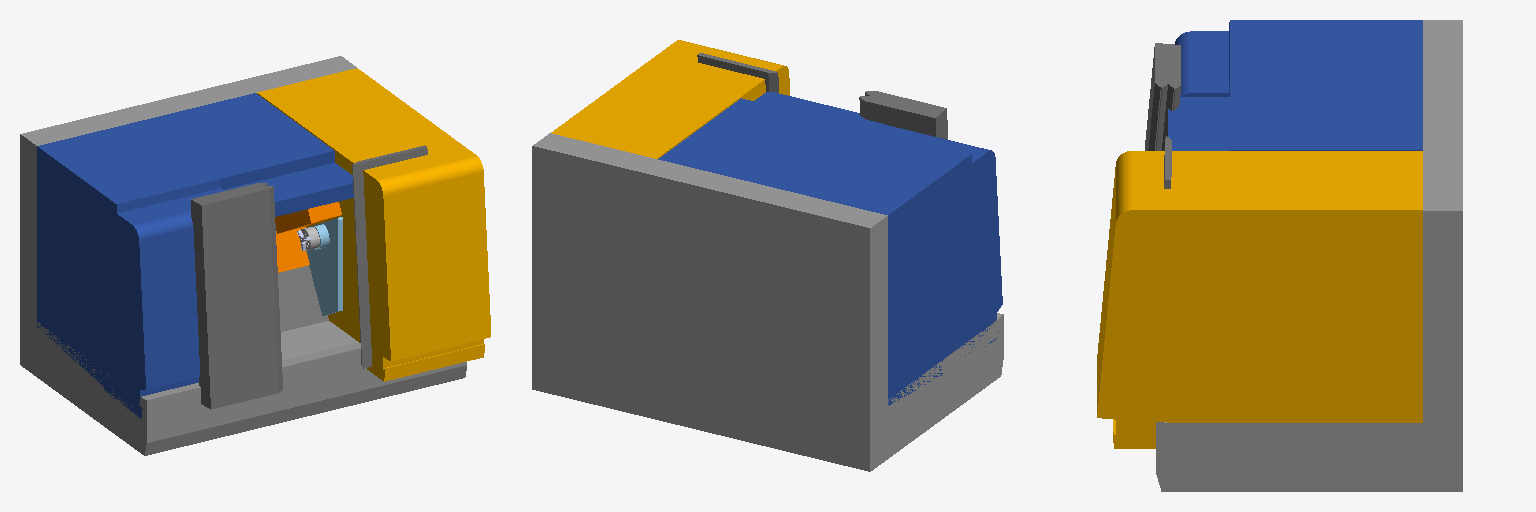
--- Render facts (derived) ---
The picture shows the robot from 3 angles, left to right: view 1: azimuth 30°, elevation 25°; view 2: azimuth 150°, elevation 25°; view 3: azimuth 270°, elevation 25°; orthographic projection.
Model cnc with 4 links and 3 joints (3 fixed), rooted at assembly_1, posed all joints at 0.
Visible links, largest first — view 1: assembly_1; view 2: assembly_1; view 3: assembly_1.
Boxes of the visible links, bbox=[...] form: assembly_1: bbox=[20, 56, 490, 455]; assembly_1: bbox=[532, 40, 1003, 471]; assembly_1: bbox=[1097, 20, 1462, 491].
Size in the robot's own frame: 2.79 by 2.27 by 1.99 metres.
Meshes: 20 distinct files referenced, 34 mesh visuals loaded (16 binary STL); not drawn: 4 (reference not matched to a file when rendering).

URDF robot description (cnc):
?<?xml version="1.0"?>
<robot name="cnc">
<link name="assembly_1">
<visual>
<origin xyz="-0.48300000000000470335 0.54284609690826468587 1.1800000000000010481" rpy="-1.570796326794896558 -9.4368957093138207328e-16 1.5707963267948974462" />
<geometry>
<mesh filename="package://cnc_machine_gazebo/models/cnc2/part_4.stl"/>
</geometry>
<material name="part_4_material">
<color rgba="0.91764705882352937127 0.91764705882352937127 0.91764705882352937127 1.0"/>
</material>
</visual>
<collision>
<origin xyz="-0.48300000000000470335 0.54284609690826468587 1.1800000000000010481" rpy="-1.570796326794896558 -9.4368957093138207328e-16 1.5707963267948974462" />
<geometry>
<mesh filename="package://cnc_machine_gazebo/models/cnc2/part_4.stl"/>
</geometry>
</collision>
<visual>
<origin xyz="-1.0953944778809043825 0.38711564060248027097 1.868881059226524588" rpy="-2.6111752560385688149 1.4835298641951810694 -1.5707963267948958919" />
<geometry>
<mesh filename="package://cnc_machine_gazebo/models/cnc2/i1127a000001_02_02_simu.stl"/>
</geometry>
<material name="i1127a000001_02_02_simu_material">
<color rgba="0.49803921568627451677 0.49803921568627451677 0.49803921568627451677 1.0"/>
</material>
</visual>
<collision>
<origin xyz="-1.0953944778809043825 0.38711564060248027097 1.868881059226524588" rpy="-2.6111752560385688149 1.4835298641951810694 -1.5707963267948958919" />
<geometry>
<mesh filename="package://cnc_machine_gazebo/models/cnc2/i1127a000001_02_02_simu.stl"/>
</geometry>
</collision>
<visual>
<origin xyz="-0.31830000000000130411 0.58441531628992116065 1.1560000000000016929" rpy="-2.4822085130842591103e-16 -0.52359877559829848259 -1.57079632679489678" />
<geometry>
<mesh filename="package://cnc_machine_gazebo/models/cnc2/p44.stl"/>
</geometry>
<material name="p44_material">
<color rgba="0.79215686274509800047 0.81960784313725487671 0.93333333333333334814 1.0"/>
</material>
</visual>
<collision>
<origin xyz="-0.31830000000000130411 0.58441531628992116065 1.1560000000000016929" rpy="-2.4822085130842591103e-16 -0.52359877559829848259 -1.57079632679489678" />
<geometry>
<mesh filename="package://cnc_machine_gazebo/models/cnc2/p44.stl"/>
</geometry>
</collision>
<visual>
<origin xyz="-0.48300000000000470335 0.54284609690826468587 1.1800000000000010481" rpy="-1.570796326794896558 -9.4368957093138207328e-16 1.5707963267948974462" />
<geometry>
<mesh filename="package://cnc_machine_gazebo/models/cnc2/y.stl"/>
</geometry>
<material name="y_material">
<color rgba="0.37254901960784314596 0.65490196078431373028 0.23921568627450981448 1.0"/>
</material>
</visual>
<collision>
<origin xyz="-0.48300000000000470335 0.54284609690826468587 1.1800000000000010481" rpy="-1.570796326794896558 -9.4368957093138207328e-16 1.5707963267948974462" />
<geometry>
<mesh filename="package://cnc_machine_gazebo/models/cnc2/y.stl"/>
</geometry>
</collision>
<visual>
<origin xyz="-0.31830000000000130411 0.54284609690826479689 1.2280000000000022009" rpy="1.5707963267948956698 1.5707963267948956698 0" />
<geometry>
<mesh filename="package://cnc_machine_gazebo/models/cnc2/p44.stl"/>
</geometry>
<material name="p44_material">
<color rgba="0.79215686274509800047 0.81960784313725487671 0.93333333333333334814 1.0"/>
</material>
</visual>
<collision>
<origin xyz="-0.31830000000000130411 0.54284609690826479689 1.2280000000000022009" rpy="1.5707963267948956698 1.5707963267948956698 0" />
<geometry>
<mesh filename="package://cnc_machine_gazebo/models/cnc2/p44.stl"/>
</geometry>
</collision>
<visual>
<origin xyz="-0.40499999999999941602 0.54284609690826901574 1.1800000000000012701" rpy="1.5707963267948974462 -5.870234470492286122e-31 7.5633943552588670987e-16" />
<geometry>
<mesh filename="package://cnc_machine_gazebo/models/cnc2/i1127a403012_01_simu.stl"/>
</geometry>
<material name="i1127a403012_01_simu_material">
<color rgba="0.64705882352941179736 0.64705882352941179736 0.64705882352941179736 1.0"/>
</material>
</visual>
<collision>
<origin xyz="-0.40499999999999941602 0.54284609690826901574 1.1800000000000012701" rpy="1.5707963267948974462 -5.870234470492286122e-31 7.5633943552588670987e-16" />
<geometry>
<mesh filename="package://cnc_machine_gazebo/models/cnc2/i1127a403012_01_simu.stl"/>
</geometry>
</collision>
<visual>
<origin xyz="-0.42311979967677981751 0.15629034788732315553 1.0854199928411174536" rpy="1.5707963267948974462 -5.7893454128280265952e-31 7.9797279894933017875e-16" />
<geometry>
<mesh filename="package://cnc_machine_gazebo/models/cnc2/i1127a000001_10_04_simu.stl"/>
</geometry>
<material name="i1127a000001_10_04_simu_material">
<color rgba="0.2313725490196078538 0.38039215686274507888 0.7058823529411765163 1.0"/>
</material>
</visual>
<collision>
<origin xyz="-0.42311979967677981751 0.15629034788732315553 1.0854199928411174536" rpy="1.5707963267948974462 -5.7893454128280265952e-31 7.9797279894933017875e-16" />
<geometry>
<mesh filename="package://cnc_machine_gazebo/models/cnc2/i1127a000001_10_04_simu.stl"/>
</geometry>
</collision>
<visual>
<origin xyz="0.3150999999999999357 0.55886756687827754408 1.1892500000000005844" rpy="-3.1415926535897900074 0.52359877559829259841 -1.570796326794896336" />
<geometry>
<mesh filename="package://cnc_machine_gazebo/models/cnc2/p31.stl"/>
</geometry>
<material name="p31_material">
<color rgba="0.79215686274509800047 0.81960784313725487671 0.93333333333333334814 1.0"/>
</material>
</visual>
<collision>
<origin xyz="0.3150999999999999357 0.55886756687827754408 1.1892500000000005844" rpy="-3.1415926535897900074 0.52359877559829259841 -1.570796326794896336" />
<geometry>
<mesh filename="package://cnc_machine_gazebo/models/cnc2/p31.stl"/>
</geometry>
</collision>
<visual>
<origin xyz="-0.40500000000000074829 0.54284609690826490791 1.1800000000000010481" rpy="1.5707963267948974462 -5.870234470492286122e-31 7.5633943552588670987e-16" />
<geometry>
<mesh filename="package://cnc_machine_gazebo/models/cnc2/i1127a000001_10_01_simu.stl"/>
</geometry>
<material name="i1127a000001_10_01_simu_material">
<color rgba="0.98039215686274505668 0.71372549019607844922 0.0039215686274509803377 1.0"/>
</material>
</visual>
<collision>
<origin xyz="-0.40500000000000074829 0.54284609690826490791 1.1800000000000010481" rpy="1.5707963267948974462 -5.870234470492286122e-31 7.5633943552588670987e-16" />
<geometry>
<mesh filename="package://cnc_machine_gazebo/models/cnc2/i1127a000001_10_01_simu.stl"/>
</geometry>
</collision>
<visual>
<origin xyz="-1.0953944778809032723 -0.44680211784210605019 0.45347573627780990435" rpy="0.53041739755122307987 -1.4835298641951810694 1.5707963267948972241" />
<geometry>
<mesh filename="package://cnc_machine_gazebo/models/cnc2/i1127a000001_02_02_simu.stl"/>
</geometry>
<material name="i1127a000001_02_02_simu_material">
<color rgba="0.49803921568627451677 0.49803921568627451677 0.49803921568627451677 1.0"/>
</material>
</visual>
<collision>
<origin xyz="-1.0953944778809032723 -0.44680211784210605019 0.45347573627780990435" rpy="0.53041739755122307987 -1.4835298641951810694 1.5707963267948972241" />
<geometry>
<mesh filename="package://cnc_machine_gazebo/models/cnc2/i1127a000001_02_02_simu.stl"/>
</geometry>
</collision>
<visual>
<origin xyz="-0.39300000000000084865 0.54284609690826490791 1.180000000000000826" rpy="1.5707963267948974462 -5.870234470492286122e-31 7.5633943552588670987e-16" />
<geometry>
<mesh filename="package://cnc_machine_gazebo/models/cnc2/130_z1_cover.stl"/>
</geometry>
<material name="130_z1_cover_material">
<color rgba="0.98039215686274505668 0.71372549019607844922 0.0039215686274509803377 1.0"/>
</material>
</visual>
<collision>
<origin xyz="-0.39300000000000084865 0.54284609690826490791 1.180000000000000826" rpy="1.5707963267948974462 -5.870234470492286122e-31 7.5633943552588670987e-16" />
<geometry>
<mesh filename="package://cnc_machine_gazebo/models/cnc2/130_z1_cover.stl"/>
</geometry>
</collision>
<visual>
<origin xyz="0.31449999999999994627 0.54284609690826557404 1.1609000000000009312" rpy="1.5707963267948970021 -1.5707963267948958919 0" />
<geometry>
<mesh filename="package://cnc_machine_gazebo/models/cnc2/p31.stl"/>
</geometry>
<material name="p31_material">
<color rgba="0.79215686274509800047 0.81960784313725487671 0.93333333333333334814 1.0"/>
</material>
</visual>
<collision>
<origin xyz="0.31449999999999994627 0.54284609690826557404 1.1609000000000009312" rpy="1.5707963267948970021 -1.5707963267948958919 0" />
<geometry>
<mesh filename="package://cnc_machine_gazebo/models/cnc2/p31.stl"/>
</geometry>
</collision>
<visual>
<origin xyz="-0.40500000000000047073 0.24284609690826441941 1.1800000000000010481" rpy="1.5707963267948974462 -4.9303806576313159015e-31 7.563394355258870057e-16" />
<geometry>
<mesh filename="package://cnc_machine_gazebo/models/cnc2/i1127a000001_10_01_simu.stl"/>
</geometry>
<material name="i1127a000001_10_01_simu_material">
<color rgba="0.98039215686274505668 0.71372549019607844922 0.0039215686274509803377 1.0"/>
</material>
</visual>
<collision>
<origin xyz="-0.40500000000000047073 0.24284609690826441941 1.1800000000000010481" rpy="1.5707963267948974462 -4.9303806576313159015e-31 7.563394355258870057e-16" />
<geometry>
<mesh filename="package://cnc_machine_gazebo/models/cnc2/i1127a000001_10_01_simu.stl"/>
</geometry>
</collision>
<visual>
<origin xyz="-0.38530000000000286242 0.54284609690826524098 1.180000000000000826" rpy="1.5707963267948972241 -6.2881612684244073865e-31 1.4502288259166164502e-15" />
<geometry>
<mesh filename="package://cnc_machine_gazebo/models/cnc2/202_left_cover.stl"/>
</geometry>
<material name="202_left_cover_material">
<color rgba="0.64705882352941179736 0.64705882352941179736 0.64705882352941179736 1.0"/>
</material>
</visual>
<collision>
<origin xyz="-0.38530000000000286242 0.54284609690826524098 1.180000000000000826" rpy="1.5707963267948972241 -6.2881612684244073865e-31 1.4502288259166164502e-15" />
<geometry>
<mesh filename="package://cnc_machine_gazebo/models/cnc2/202_left_cover.stl"/>
</geometry>
</collision>
<visual>
<origin xyz="-0.48300000000000470335 0.54284609690826468587 1.1800000000000010481" rpy="-1.570796326794896558 -9.4368957093138207328e-16 1.5707963267948974462" />
<geometry>
<mesh filename="package://cnc_machine_gazebo/models/cnc2/x.stl"/>
</geometry>
<material name="x_material">
<color rgba="1 0 0 1.0"/>
</material>
</visual>
<collision>
<origin xyz="-0.48300000000000470335 0.54284609690826468587 1.1800000000000010481" rpy="-1.570796326794896558 -9.4368957093138207328e-16 1.5707963267948974462" />
<geometry>
<mesh filename="package://cnc_machine_gazebo/models/cnc2/x.stl"/>
</geometry>
</collision>
<visual>
<origin xyz="-0.40500000000000074829 0.54284609690826490791 1.1800000000000010481" rpy="1.5707963267948974462 -5.870234470492286122e-31 7.5633943552588670987e-16" />
<geometry>
<mesh filename="package://cnc_machine_gazebo/models/cnc2/i1127a000001_02_02_simu.stl"/>
</geometry>
<material name="i1127a000001_02_02_simu_material">
<color rgba="0.49803921568627451677 0.49803921568627451677 0.49803921568627451677 1.0"/>
</material>
</visual>
<collision>
<origin xyz="-0.40500000000000074829 0.54284609690826490791 1.1800000000000010481" rpy="1.5707963267948974462 -5.870234470492286122e-31 7.5633943552588670987e-16" />
<geometry>
<mesh filename="package://cnc_machine_gazebo/models/cnc2/i1127a000001_02_02_simu.stl"/>
</geometry>
</collision>
<visual>
<origin xyz="0.31450000000000000178 0.52630501169598298272 1.1895500000000012175" rpy="-2.1374984985046498593e-15 0.52359877559829814953 1.5707963267948970021" />
<geometry>
<mesh filename="package://cnc_machine_gazebo/models/cnc2/p31.stl"/>
</geometry>
<material name="p31_material">
<color rgba="0.79215686274509800047 0.81960784313725487671 0.93333333333333334814 1.0"/>
</material>
</visual>
<collision>
<origin xyz="0.31450000000000000178 0.52630501169598298272 1.1895500000000012175" rpy="-2.1374984985046498593e-15 0.52359877559829814953 1.5707963267948970021" />
<geometry>
<mesh filename="package://cnc_machine_gazebo/models/cnc2/p31.stl"/>
</geometry>
</collision>
<visual>
<origin xyz="-0.40500000000000074829 0.54284609690826490791 1.1800000000000010481" rpy="1.5707963267948974462 -5.870234470492286122e-31 7.5633943552588670987e-16" />
<geometry>
<mesh filename="package://cnc_machine_gazebo/models/cnc2/i1127a000001_33_04_simu.stl"/>
</geometry>
<material name="i1127a000001_33_04_simu_material">
<color rgba="0.76862745098039220171 0.88627450980392152857 0.95294117647058818044 1.0"/>
</material>
</visual>
<collision>
<origin xyz="-0.40500000000000074829 0.54284609690826490791 1.1800000000000010481" rpy="1.5707963267948974462 -5.870234470492286122e-31 7.5633943552588670987e-16" />
<geometry>
<mesh filename="package://cnc_machine_gazebo/models/cnc2/i1127a000001_33_04_simu.stl"/>
</geometry>
</collision>
<visual>
<origin xyz="0.31399999999999994582 0.54284609690826557404 1.1800000000000010481" rpy="-1.5707963267948976682 6.9025329206838427876e-31 -3.1415926535897926719" />
<geometry>
<mesh filename="package://cnc_machine_gazebo/models/cnc2/b_206.stl"/>
</geometry>
<material name="b_206_material">
<color rgba="0.75294117647058822484 0.75294117647058822484 0.75294117647058822484 1.0"/>
</material>
</visual>
<collision>
<origin xyz="0.31399999999999994582 0.54284609690826557404 1.1800000000000010481" rpy="-1.5707963267948976682 6.9025329206838427876e-31 -3.1415926535897926719" />
<geometry>
<mesh filename="package://cnc_machine_gazebo/models/cnc2/b_206.stl"/>
</geometry>
</collision>
<visual>
<origin xyz="-0.46000000000000068612 0.54284609690826446382 1.180000000000000826" rpy="1.5707963267948974462 -5.870234470492286122e-31 7.5633943552588670987e-16" />
<geometry>
<mesh filename="package://cnc_machine_gazebo/models/cnc2/150_z3_cover.stl"/>
</geometry>
<material name="150_z3_cover_material">
<color rgba="0.49803921568627451677 0.49803921568627451677 0.49803921568627451677 1.0"/>
</material>
</visual>
<collision>
<origin xyz="-0.46000000000000068612 0.54284609690826446382 1.180000000000000826" rpy="1.5707963267948974462 -5.870234470492286122e-31 7.5633943552588670987e-16" />
<geometry>
<mesh filename="package://cnc_machine_gazebo/models/cnc2/150_z3_cover.stl"/>
</geometry>
</collision>
<visual>
<origin xyz="-0.30480000000000129212 0.52630501169598009614 1.1704499999999999904" rpy="3.1415926535897908956 -0.52359877559828693627 1.570796326794896558" />
<geometry>
<mesh filename="package://cnc_machine_gazebo/models/cnc2/p31.stl"/>
</geometry>
<material name="p31_material">
<color rgba="0.79215686274509800047 0.81960784313725487671 0.93333333333333334814 1.0"/>
</material>
</visual>
<collision>
<origin xyz="-0.30480000000000129212 0.52630501169598009614 1.1704499999999999904" rpy="3.1415926535897908956 -0.52359877559828693627 1.570796326794896558" />
<geometry>
<mesh filename="package://cnc_machine_gazebo/models/cnc2/p31.stl"/>
</geometry>
</collision>
<visual>
<origin xyz="-1.0953944778809039384 -0.52874975322159700752 0.46064522537628516119" rpy="0.53041739755122185862 -1.4835298641951810694 1.5707963267948972241" />
<geometry>
<mesh filename="package://cnc_machine_gazebo/models/cnc2/i1127a000001_02_02_simu.stl"/>
</geometry>
<material name="i1127a000001_02_02_simu_material">
<color rgba="0.49803921568627451677 0.49803921568627451677 0.49803921568627451677 1.0"/>
</material>
</visual>
<collision>
<origin xyz="-1.0953944778809039384 -0.52874975322159700752 0.46064522537628516119" rpy="0.53041739755122185862 -1.4835298641951810694 1.5707963267948972241" />
<geometry>
<mesh filename="package://cnc_machine_gazebo/models/cnc2/i1127a000001_02_02_simu.stl"/>
</geometry>
</collision>
<visual>
<origin xyz="-0.40799999999999858602 0.54284609690826457484 1.1799999999999986056" rpy="1.5707963267948970021 -1.4332770646129816225e-30 7.5633943552588670987e-16" />
<geometry>
<mesh filename="package://cnc_machine_gazebo/models/cnc2/i1127a000001_10_02_simu.stl"/>
</geometry>
<material name="i1127a000001_10_02_simu_material">
<color rgba="0.2313725490196078538 0.38039215686274507888 0.7058823529411765163 1.0"/>
</material>
</visual>
<collision>
<origin xyz="-0.40799999999999858602 0.54284609690826457484 1.1799999999999986056" rpy="1.5707963267948970021 -1.4332770646129816225e-30 7.5633943552588670987e-16" />
<geometry>
<mesh filename="package://cnc_machine_gazebo/models/cnc2/i1127a000001_10_02_simu.stl"/>
</geometry>
</collision>
<visual>
<origin xyz="-1.0953944778809052707 0.46906327598196451145 1.8617115701280397833" rpy="-2.6111752560385736999 1.4835298641951810694 -1.5707963267948958919" />
<geometry>
<mesh filename="package://cnc_machine_gazebo/models/cnc2/i1127a000001_02_02_simu.stl"/>
</geometry>
<material name="i1127a000001_02_02_simu_material">
<color rgba="0.49803921568627451677 0.49803921568627451677 0.49803921568627451677 1.0"/>
</material>
</visual>
<collision>
<origin xyz="-1.0953944778809052707 0.46906327598196451145 1.8617115701280397833" rpy="-2.6111752560385736999 1.4835298641951810694 -1.5707963267948958919" />
<geometry>
<mesh filename="package://cnc_machine_gazebo/models/cnc2/i1127a000001_02_02_simu.stl"/>
</geometry>
</collision>
<visual>
<origin xyz="-0.30540000000000139257 0.55886756687827987555 1.1707500000000021778" rpy="3.3470442036297415902e-15 -0.52359877559830236837 -1.57079632679489678" />
<geometry>
<mesh filename="package://cnc_machine_gazebo/models/cnc2/p31.stl"/>
</geometry>
<material name="p31_material">
<color rgba="0.79215686274509800047 0.81960784313725487671 0.93333333333333334814 1.0"/>
</material>
</visual>
<collision>
<origin xyz="-0.30540000000000139257 0.55886756687827987555 1.1707500000000021778" rpy="3.3470442036297415902e-15 -0.52359877559830236837 -1.57079632679489678" />
<geometry>
<mesh filename="package://cnc_machine_gazebo/models/cnc2/p31.stl"/>
</geometry>
</collision>
<visual>
<origin xyz="-0.42500000000000082157 0.54284609690826524098 1.1830000000000004956" rpy="1.5707963267948974462 -5.7893454128280265952e-31 7.9797279894933017875e-16" />
<geometry>
<mesh filename="package://cnc_machine_gazebo/models/cnc2/i1127a000001_10_04_simu.stl"/>
</geometry>
<material name="i1127a000001_10_04_simu_material">
<color rgba="0.2313725490196078538 0.38039215686274507888 0.7058823529411765163 1.0"/>
</material>
</visual>
<collision>
<origin xyz="-0.42500000000000082157 0.54284609690826524098 1.1830000000000004956" rpy="1.5707963267948974462 -5.7893454128280265952e-31 7.9797279894933017875e-16" />
<geometry>
<mesh filename="package://cnc_machine_gazebo/models/cnc2/i1127a000001_10_04_simu.stl"/>
</geometry>
</collision>
<visual>
<origin xyz="0.32800000000000001377 0.50127687752661242993 1.2040000000000012914" rpy="8.3291900020099585808e-16 0.52359877559829659521 1.5707963267948970021" />
<geometry>
<mesh filename="package://cnc_machine_gazebo/models/cnc2/p44.stl"/>
</geometry>
<material name="p44_material">
<color rgba="0.79215686274509800047 0.81960784313725487671 0.93333333333333334814 1.0"/>
</material>
</visual>
<collision>
<origin xyz="0.32800000000000001377 0.50127687752661242993 1.2040000000000012914" rpy="8.3291900020099585808e-16 0.52359877559829659521 1.5707963267948970021" />
<geometry>
<mesh filename="package://cnc_machine_gazebo/models/cnc2/p44.stl"/>
</geometry>
</collision>
<visual>
<origin xyz="0.32799999999999995826 0.54284609690826557404 1.1320000000000010054" rpy="1.5707963267948970021 -1.5707963267948958919 0" />
<geometry>
<mesh filename="package://cnc_machine_gazebo/models/cnc2/p44.stl"/>
</geometry>
<material name="p44_material">
<color rgba="0.79215686274509800047 0.81960784313725487671 0.93333333333333334814 1.0"/>
</material>
</visual>
<collision>
<origin xyz="0.32799999999999995826 0.54284609690826557404 1.1320000000000010054" rpy="1.5707963267948970021 -1.5707963267948958919 0" />
<geometry>
<mesh filename="package://cnc_machine_gazebo/models/cnc2/p44.stl"/>
</geometry>
</collision>
<visual>
<origin xyz="-0.48300000000000470335 0.54284609690826468587 1.1800000000000010481" rpy="-1.570796326794896558 -9.4368957093138207328e-16 1.5707963267948974462" />
<geometry>
<mesh filename="package://cnc_machine_gazebo/models/cnc2/z.stl"/>
</geometry>
<material name="z_material">
<color rgba="0.2313725490196078538 0.38039215686274507888 0.7058823529411765163 1.0"/>
</material>
</visual>
<collision>
<origin xyz="-0.48300000000000470335 0.54284609690826468587 1.1800000000000010481" rpy="-1.570796326794896558 -9.4368957093138207328e-16 1.5707963267948974462" />
<geometry>
<mesh filename="package://cnc_machine_gazebo/models/cnc2/z.stl"/>
</geometry>
</collision>
<visual>
<origin xyz="-0.42500000000000109912 0.54284609690826501893 1.1800000000000010481" rpy="1.5707963267948974462 -7.1223427569442694215e-31 7.563394355258870057e-16" />
<geometry>
<mesh filename="package://cnc_machine_gazebo/models/cnc2/i1127a000001_02_01_simu.stl"/>
</geometry>
<material name="i1127a000001_02_01_simu_material">
<color rgba="0.61568627450980395466 0.81176470588235294379 0.92941176470588238168 1.0"/>
</material>
</visual>
<collision>
<origin xyz="-0.42500000000000109912 0.54284609690826501893 1.1800000000000010481" rpy="1.5707963267948974462 -7.1223427569442694215e-31 7.563394355258870057e-16" />
<geometry>
<mesh filename="package://cnc_machine_gazebo/models/cnc2/i1127a000001_02_01_simu.stl"/>
</geometry>
</collision>
<visual>
<origin xyz="-0.30480000000000129212 0.54284609690826490791 1.1991000000000022752" rpy="1.5707963267948956698 1.5707963267948956698 0" />
<geometry>
<mesh filename="package://cnc_machine_gazebo/models/cnc2/p31.stl"/>
</geometry>
<material name="p31_material">
<color rgba="0.79215686274509800047 0.81960784313725487671 0.93333333333333334814 1.0"/>
</material>
</visual>
<collision>
<origin xyz="-0.30480000000000129212 0.54284609690826490791 1.1991000000000022752" rpy="1.5707963267948956698 1.5707963267948956698 0" />
<geometry>
<mesh filename="package://cnc_machine_gazebo/models/cnc2/p31.stl"/>
</geometry>
</collision>
<visual>
<origin xyz="-0.31830000000000130411 0.50127687752660943232 1.1560000000000001386" rpy="-3.1415926535897926719 -0.52359877559828693627 1.570796326794896558" />
<geometry>
<mesh filename="package://cnc_machine_gazebo/models/cnc2/p44.stl"/>
</geometry>
<material name="p44_material">
<color rgba="0.79215686274509800047 0.81960784313725487671 0.93333333333333334814 1.0"/>
</material>
</visual>
<collision>
<origin xyz="-0.31830000000000130411 0.50127687752660943232 1.1560000000000001386" rpy="-3.1415926535897926719 -0.52359877559828693627 1.570796326794896558" />
<geometry>
<mesh filename="package://cnc_machine_gazebo/models/cnc2/p44.stl"/>
</geometry>
</collision>
<visual>
<origin xyz="1.2518696879329613836 0.27714123384170485931 0.39141339284249782038" rpy="-2.617993877991502405 -1.4835322082241053643 1.5707963267948887864" />
<geometry>
<mesh filename="package://cnc_machine_gazebo/models/cnc2/i1127a000001_02_02_simu.stl"/>
</geometry>
<material name="i1127a000001_02_02_simu_material">
<color rgba="0.49803921568627451677 0.49803921568627451677 0.49803921568627451677 1.0"/>
</material>
</visual>
<collision>
<origin xyz="1.2518696879329613836 0.27714123384170485931 0.39141339284249782038" rpy="-2.617993877991502405 -1.4835322082241053643 1.5707963267948887864" />
<geometry>
<mesh filename="package://cnc_machine_gazebo/models/cnc2/i1127a000001_02_02_simu.stl"/>
</geometry>
</collision>
<visual>
<origin xyz="-0.38300000000000078426 0.54284609690826490791 1.180000000000000826" rpy="1.5707963267948974462 -5.870234470492286122e-31 7.5633943552588670987e-16" />
<geometry>
<mesh filename="package://cnc_machine_gazebo/models/cnc2/i1127a000001_33_03_simu.stl"/>
</geometry>
<material name="i1127a000001_33_03_simu_material">
<color rgba="0.97254901960784312376 0.52941176470588235947 0.0039215686274509803377 1.0"/>
</material>
</visual>
<collision>
<origin xyz="-0.38300000000000078426 0.54284609690826490791 1.180000000000000826" rpy="1.5707963267948974462 -5.870234470492286122e-31 7.5633943552588670987e-16" />
<geometry>
<mesh filename="package://cnc_machine_gazebo/models/cnc2/i1127a000001_33_03_simu.stl"/>
</geometry>
</collision>
<visual>
<origin xyz="0.32799999999999990274 0.58441531628991894021 1.2040000000000008473" rpy="3.1415926535897926719 0.52359877559828937876 -1.570796326794896336" />
<geometry>
<mesh filename="package://cnc_machine_gazebo/models/cnc2/p44.stl"/>
</geometry>
<material name="p44_material">
<color rgba="0.79215686274509800047 0.81960784313725487671 0.93333333333333334814 1.0"/>
</material>
</visual>
<collision>
<origin xyz="0.32799999999999990274 0.58441531628991894021 1.2040000000000008473" rpy="3.1415926535897926719 0.52359877559828937876 -1.570796326794896336" />
<geometry>
<mesh filename="package://cnc_machine_gazebo/models/cnc2/p44.stl"/>
</geometry>
</collision>
<visual>
<origin xyz="-0.40500000000000074829 0.54284609690826490791 1.1800000000000010481" rpy="1.5707963267948974462 -5.870234470492286122e-31 7.5633943552588670987e-16" />
<geometry>
<mesh filename="package://cnc_machine_gazebo/models/cnc2/i1127a000001_33_05_simu.stl"/>
</geometry>
<material name="i1127a000001_33_05_simu_material">
<color rgba="0.91764705882352937127 0.91764705882352937127 0.91764705882352937127 1.0"/>
</material>
</visual>
<collision>
<origin xyz="-0.40500000000000074829 0.54284609690826490791 1.1800000000000010481" rpy="1.5707963267948974462 -5.870234470492286122e-31 7.5633943552588670987e-16" />
<geometry>
<mesh filename="package://cnc_machine_gazebo/models/cnc2/i1127a000001_33_05_simu.stl"/>
</geometry>
</collision>
<visual>
<origin xyz="-0.30430000000000095861 0.54284609690826490791 1.1800000000000012701" rpy="1.5707963267948974462 -1.5307291197989789096e-30 1.4432899320127125745e-15" />
<geometry>
<mesh filename="package://cnc_machine_gazebo/models/cnc2/b_206.stl"/>
</geometry>
<material name="b_206_material">
<color rgba="0.75294117647058822484 0.75294117647058822484 0.75294117647058822484 1.0"/>
</material>
</visual>
<collision>
<origin xyz="-0.30430000000000095861 0.54284609690826490791 1.1800000000000012701" rpy="1.5707963267948974462 -1.5307291197989789096e-30 1.4432899320127125745e-15" />
<geometry>
<mesh filename="package://cnc_machine_gazebo/models/cnc2/b_206.stl"/>
</geometry>
</collision>
<visual>
<origin xyz="-0.40500000000000074829 0.54284609690826490791 1.1800000000000010481" rpy="1.5707963267948974462 -5.870234470492286122e-31 7.5633943552588670987e-16" />
<geometry>
<mesh filename="package://cnc_machine_gazebo/models/cnc2/i1127a000001_10_03_simu.stl"/>
</geometry>
<material name="i1127a000001_10_03_simu_material">
<color rgba="0.97254901960784312376 0.52941176470588235947 0.0039215686274509803377 1.0"/>
</material>
</visual>
<collision>
<origin xyz="-0.40500000000000074829 0.54284609690826490791 1.1800000000000010481" rpy="1.5707963267948974462 -5.870234470492286122e-31 7.5633943552588670987e-16" />
<geometry>
<mesh filename="package://cnc_machine_gazebo/models/cnc2/i1127a000001_10_03_simu.stl"/>
</geometry>
</collision>
<inertial>
<origin xyz="0.0048499999999990182908 0.54283536292616818564 1.1800000000000012701" rpy="0 0 0"/>
<mass value="25.457507666087796139" />
<inertia ixx="0.099755000323400205842" ixy="-3.2613207924178655439e-15"  ixz="3.7484600071508673087e-05" iyy="3.0793485211875042395" iyz="-7.4538899358378429838e-18" izz="3.0794994816766640966" />
</inertial>
</link>
<link name="chuck">
<inertial>
<origin xyz="0 0 0" rpy="0 0 0" />
<mass value="1e-9" />
<inertia ixx="0" ixy="0" ixz="0" iyy="0" iyz="0" izz="0" />
</inertial>
</link>
<joint name="chuck_frame" type="fixed">
<origin xyz="-0.3043000000000009031 0.54284609690826501893 1.1800000000000012701" rpy="-1.57079632679489678 9.9920072216263812537e-16 -1.5707963267948958919" />
<parent link="assembly_1" />
<child link="chuck" />
<axis xyz="0 0 0"/>
</joint>

<link name="tag_left">
<inertial>
<origin xyz="0 0 0" rpy="0 0 0" />
<mass value="1e-9" />
<inertia ixx="0" ixy="0" ixz="0" iyy="0" iyz="0" izz="0" />
</inertial>
</link>
<joint name="tag_left_frame" type="fixed">
<origin xyz="-0.46430000000000465343 0.24284609690825320616 1.3300000000000025135" rpy="-1.570796326794896558 9.4368957093137753733e-16 -1.5707963267948956698" />
<parent link="assembly_1" />
<child link="tag_left" />
<axis xyz="0 0 0"/>
</joint>

<link name="tag_right">
<inertial>
<origin xyz="0 0 0" rpy="0 0 0" />
<mass value="1e-9" />
<inertia ixx="0" ixy="0" ixz="0" iyy="0" iyz="0" izz="0" />
</inertial>
</link>
<joint name="tag_right_frame" type="fixed">
<origin xyz="0.51780000000001846772 0.22906609690825396886 1.3923000000000034238" rpy="-1.570796326794896558 7.7715611723760336602e-16 -1.57079632679489678" />
<parent link="assembly_1" />
<child link="tag_right" />
<axis xyz="0 0 0"/>
</joint>

</robot>
